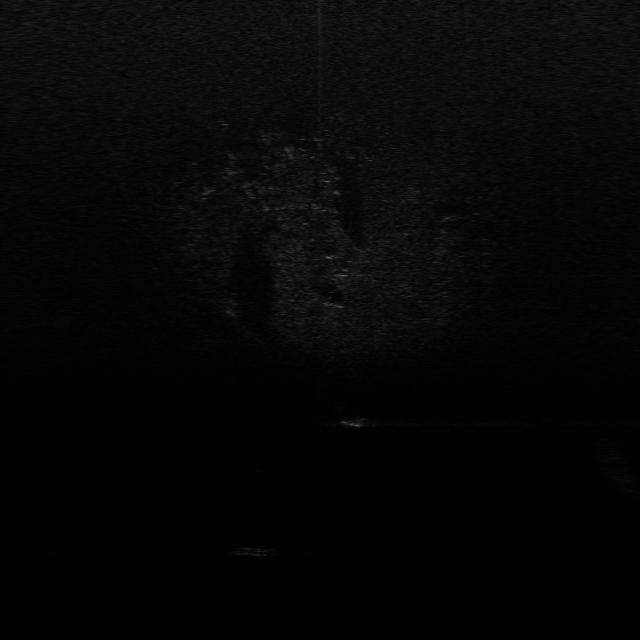cube: (228, 544, 276, 558)
square cage: (337, 416, 367, 430)
